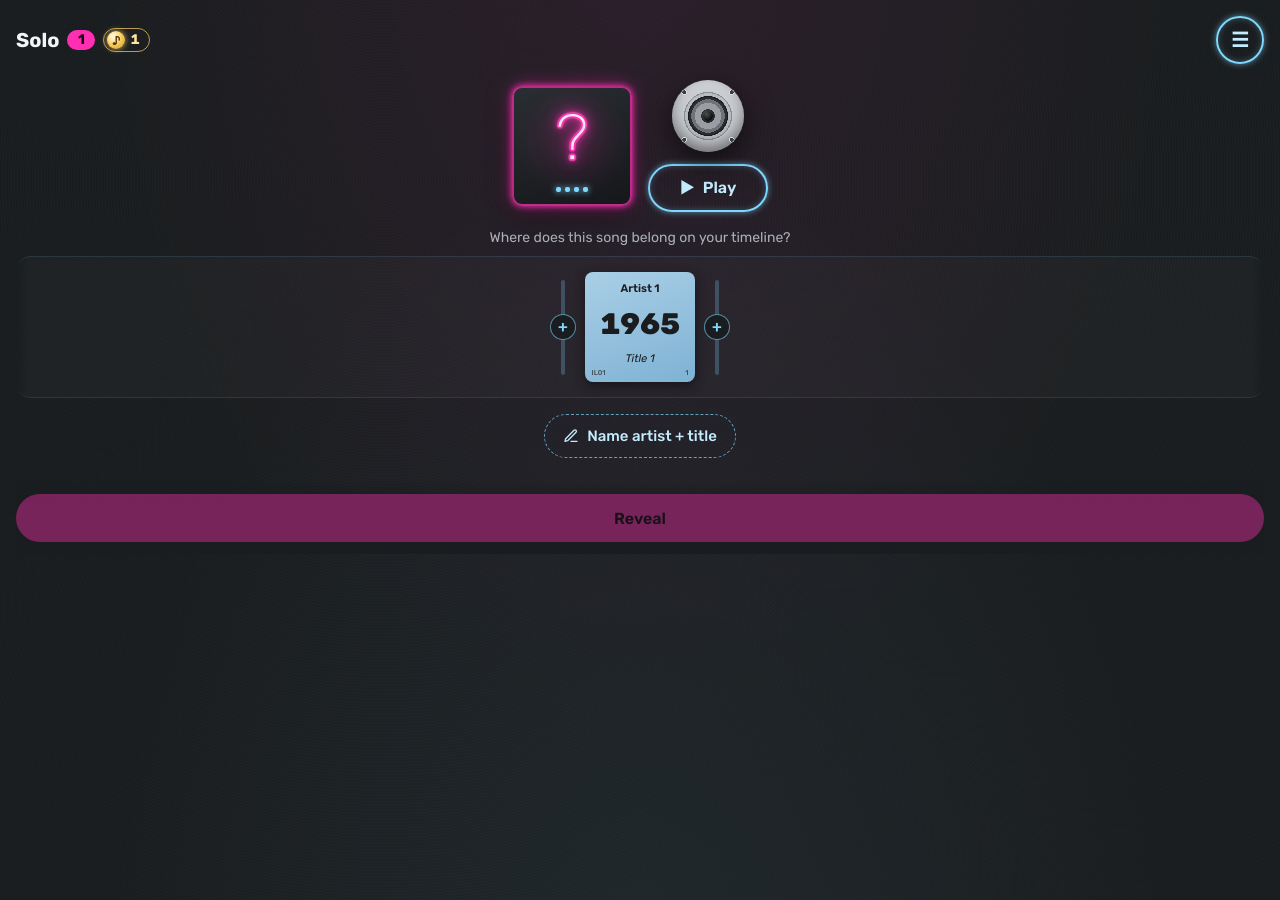
Test: GameScreen with tokens and bets: the turn › when nobody could bet, naming is still offered: Reveal checks the names; a right spot with a right name earns a token
Click the button with test id "btn-name-it" at x=640, y=436, box [544,414,736,458]
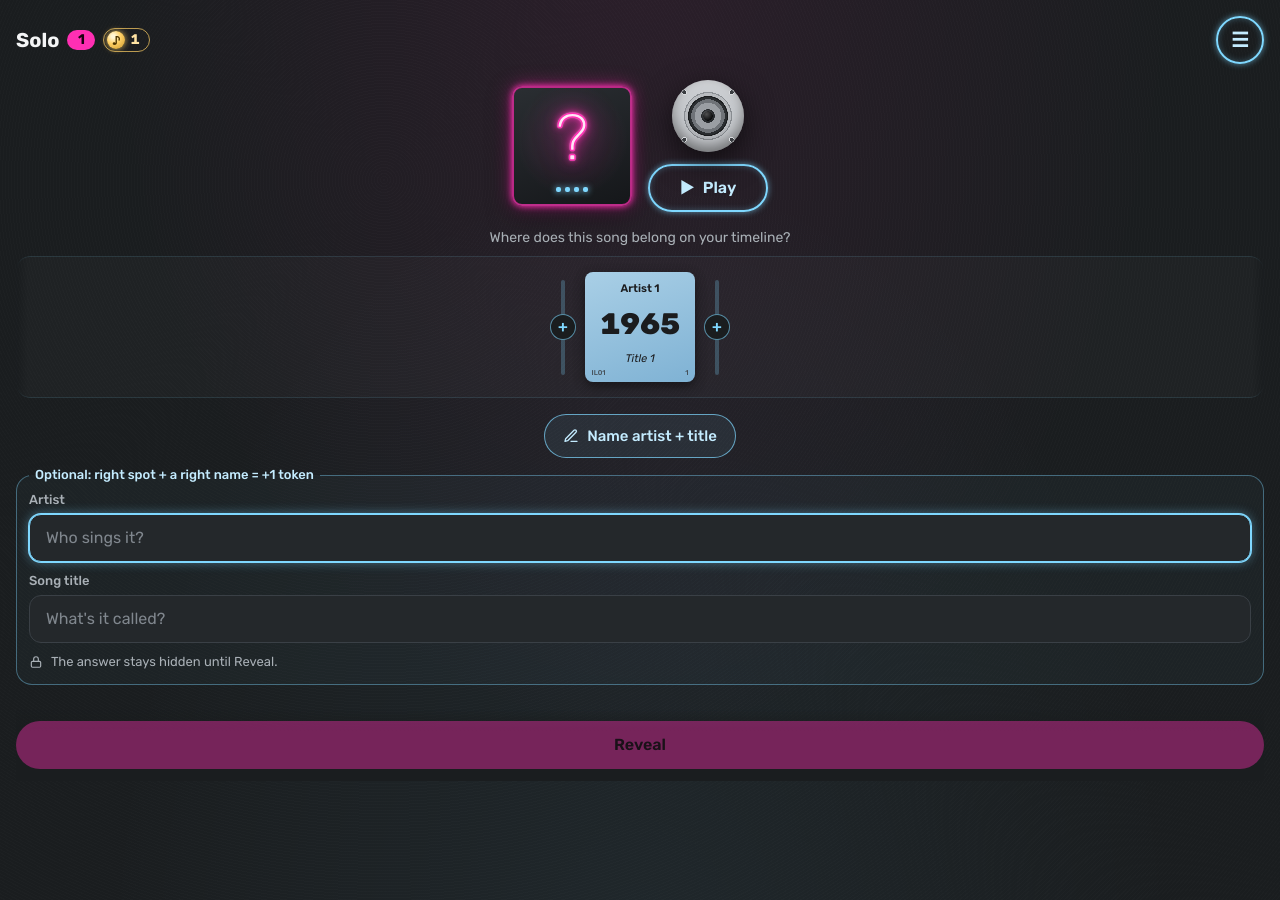
Expected: the element "Optional: right spot + a right name = +1 token" is shown, [16,466,1264,685]
Type "Ivri Lider" into the field with test id "input-guess-artist" at x=640, y=538, box [29,514,1251,562]
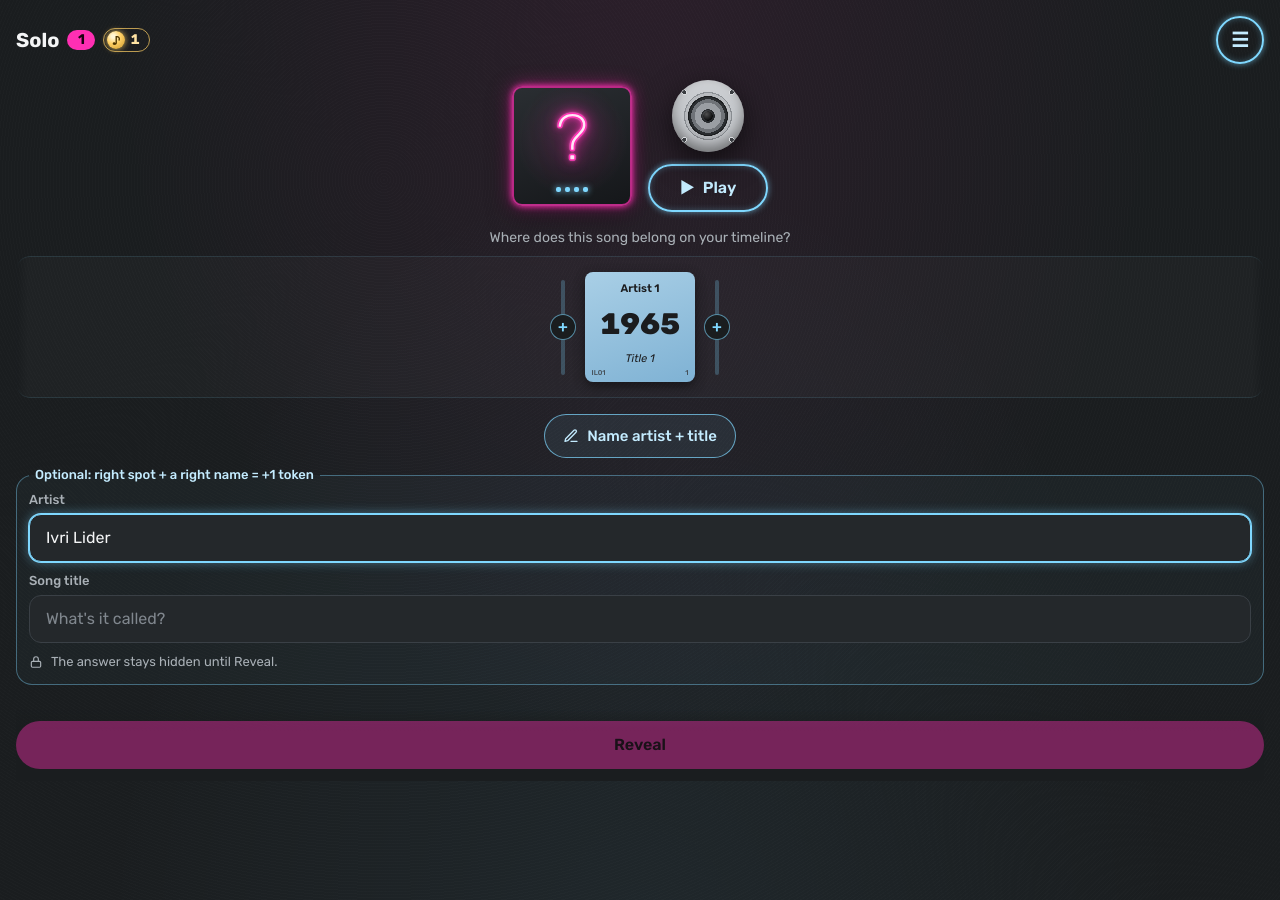
Click the 2nd button with test id "timeline-slot" at x=717, y=327, box [695,268,739,386]
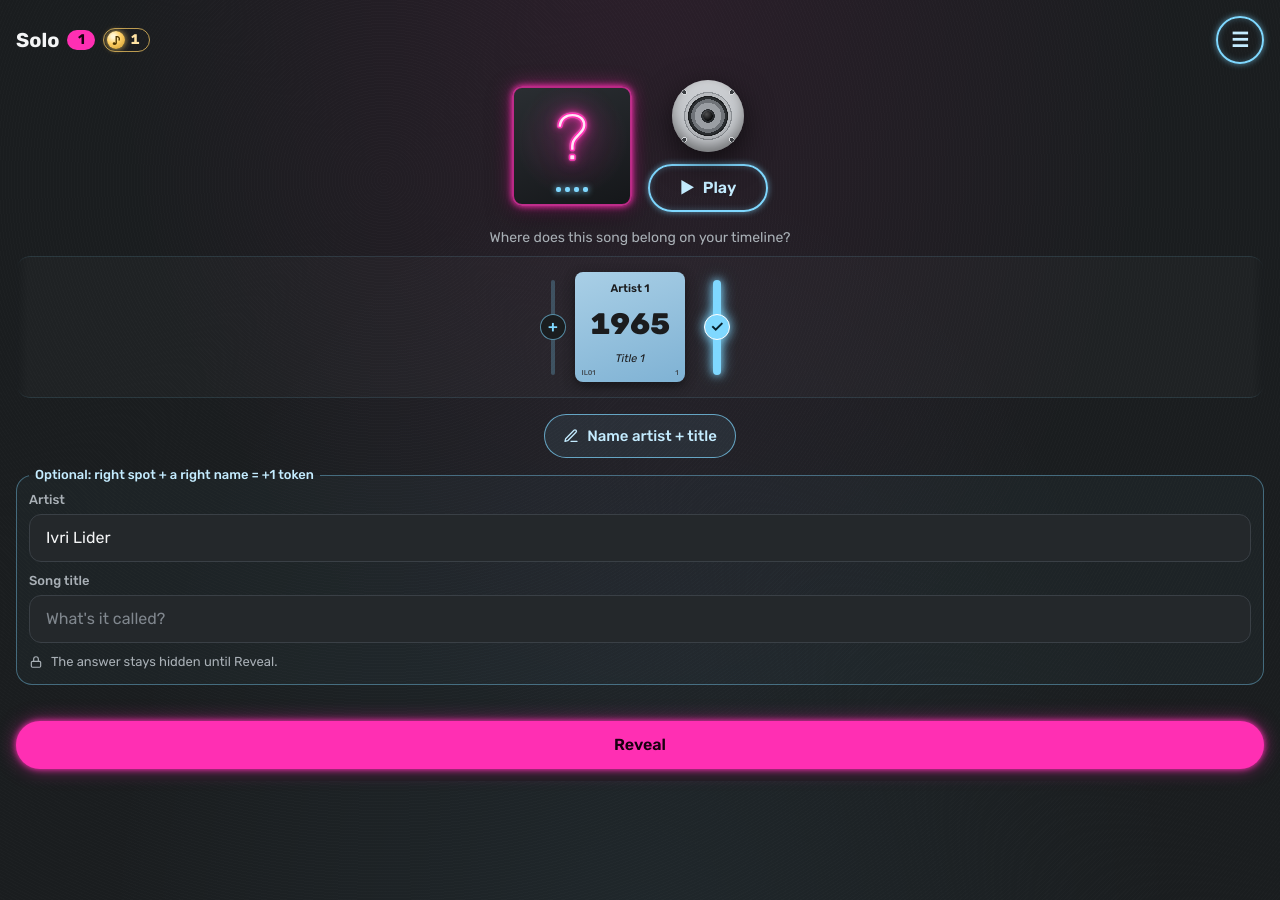
Click the button with test id "btn-reveal" at x=640, y=745, box [16,721,1264,769]
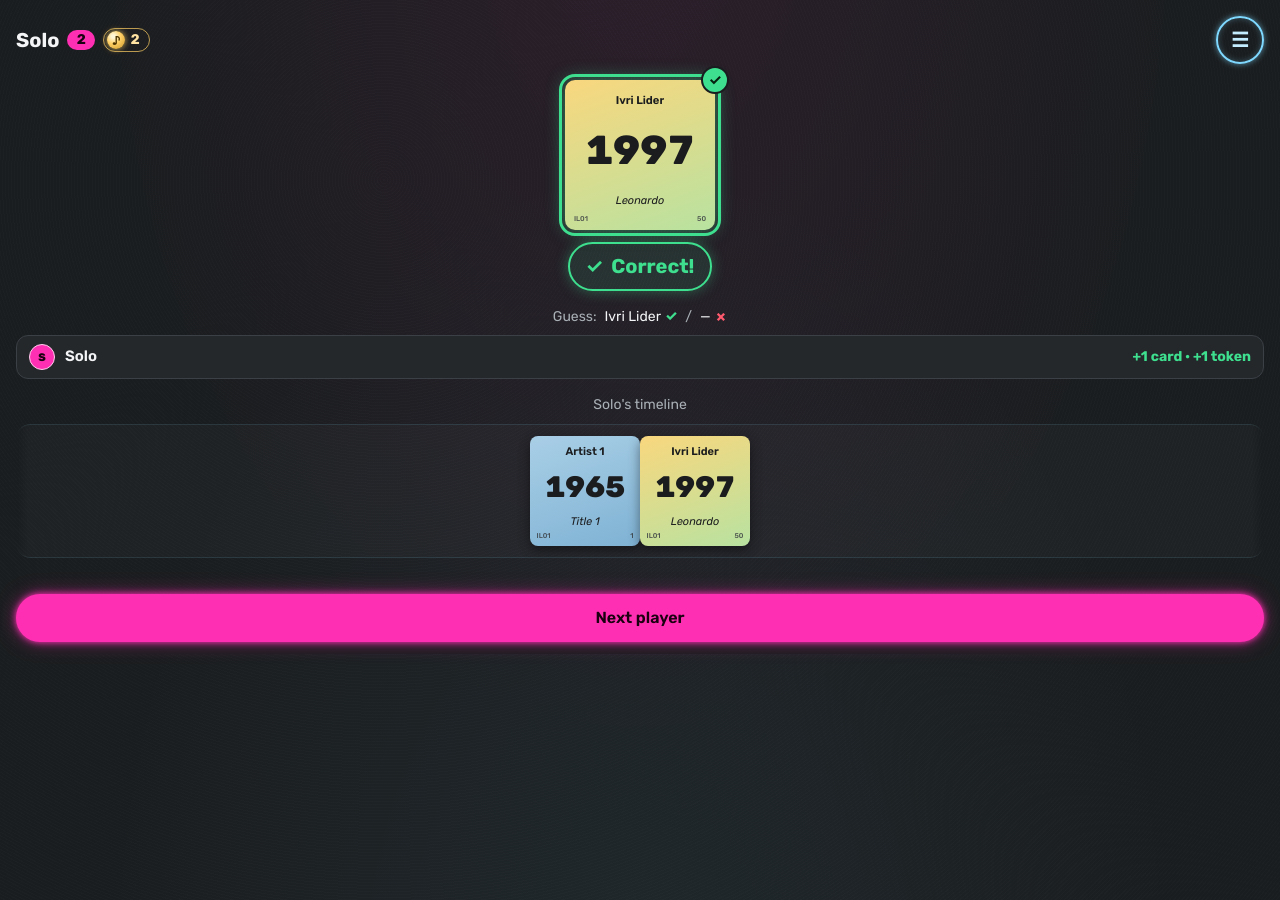
Expected: the message "Correct!" is shown, [568,242,712,291]
Expected: the elements with test id "outcome-row" read "SSolo+1 card · +1 token", in this order, [16,335,1264,379]
Expected: the picture with test id "current-player-tokens" shows "2", [130,31,140,48]
